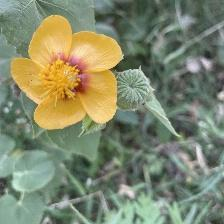indian mallow: (10, 16, 126, 129)
